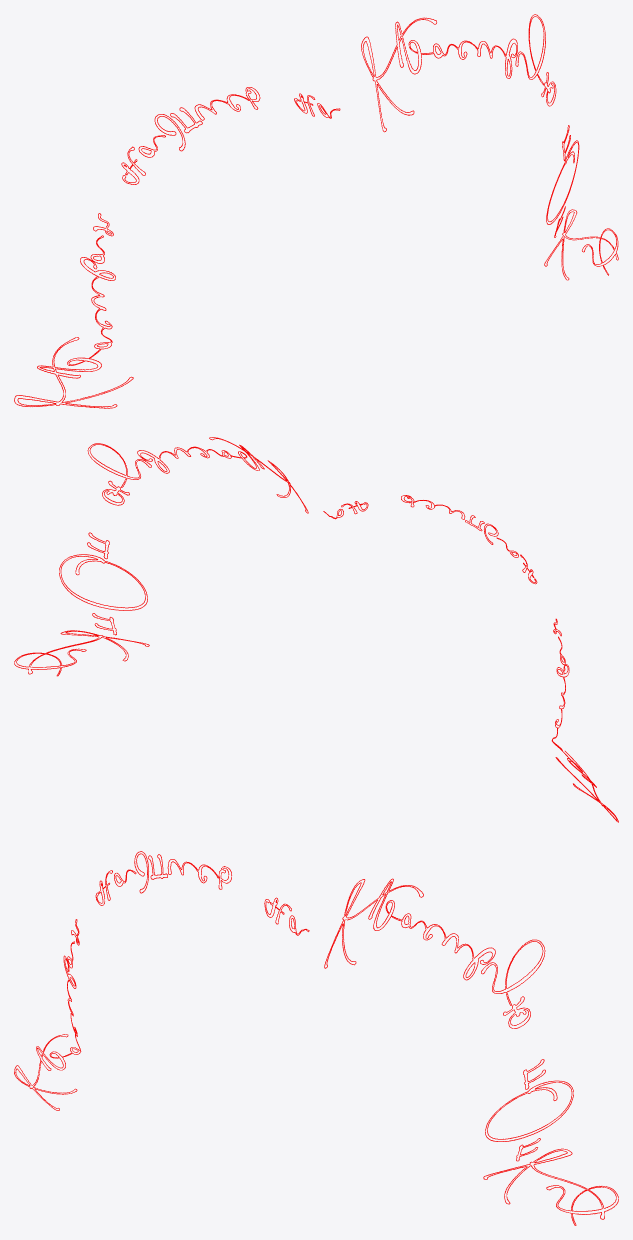
3 renders of one model, top to bottom at view 1: azimuth 30°, elevation 25°; view 2: azimuth 150°, elevation 25°; view 3: azimuth 330°, elevation 25°, orthographic.
Bounding box in the file's own units: 1.66 × 0.7639 × 0.1574.
